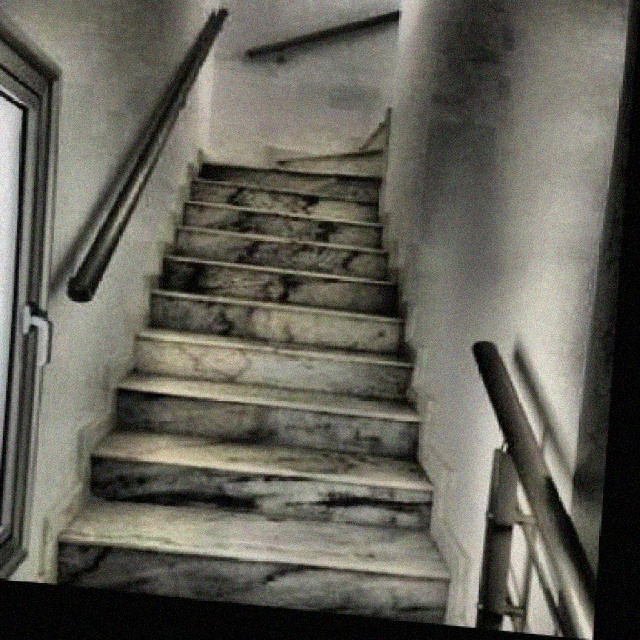stair: (51, 135, 494, 628)
